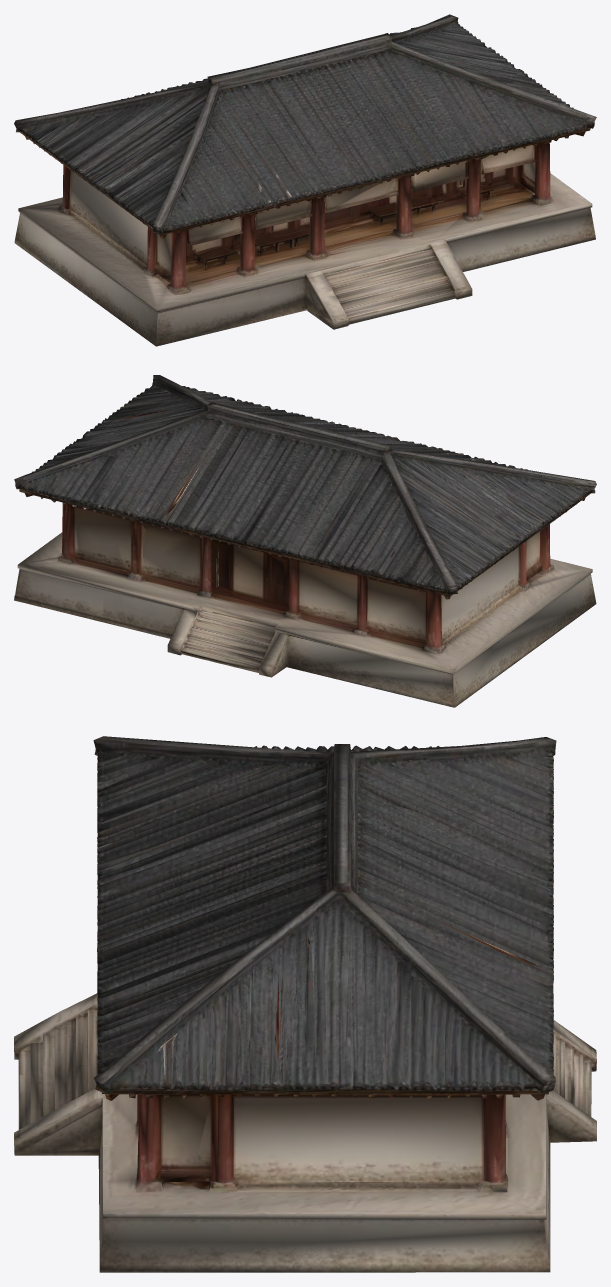
The model's file is hall_lod0.glb.
3 renders of one model, top to bottom at view 1: azimuth 30°, elevation 25°; view 2: azimuth 150°, elevation 25°; view 3: azimuth 270°, elevation 25°, orthographic. The views are drawn at different scales.
Visible parts, largest first — view 1: node_0; view 2: node_0; view 3: node_0.
Boxes of the visible parts, box(x1,y1,x2,y2) form: node_0: box(14, 14, 596, 346); node_0: box(14, 375, 596, 707); node_0: box(14, 736, 596, 1272).
Bounding box in the file's own units: 0.9803 × 0.3822 × 0.7005.
Materials: 1 (1 with a texture image).
